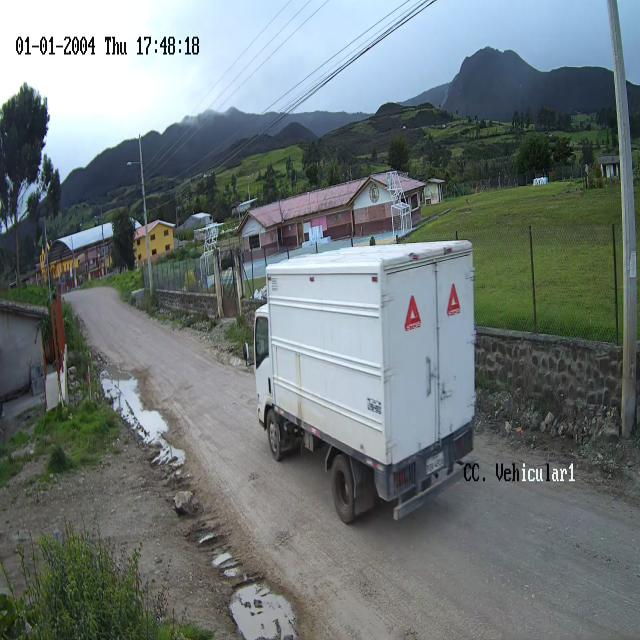TRUCK: (253, 241, 477, 525)
